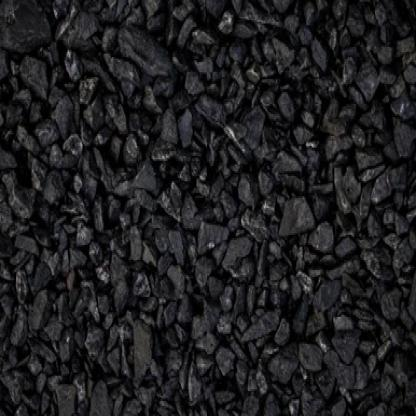Sedimentary_coal: (275, 188, 317, 241), (106, 87, 132, 136), (310, 32, 331, 77), (192, 295, 215, 336), (178, 102, 197, 150), (296, 334, 322, 369), (113, 268, 132, 307), (397, 122, 415, 158)
